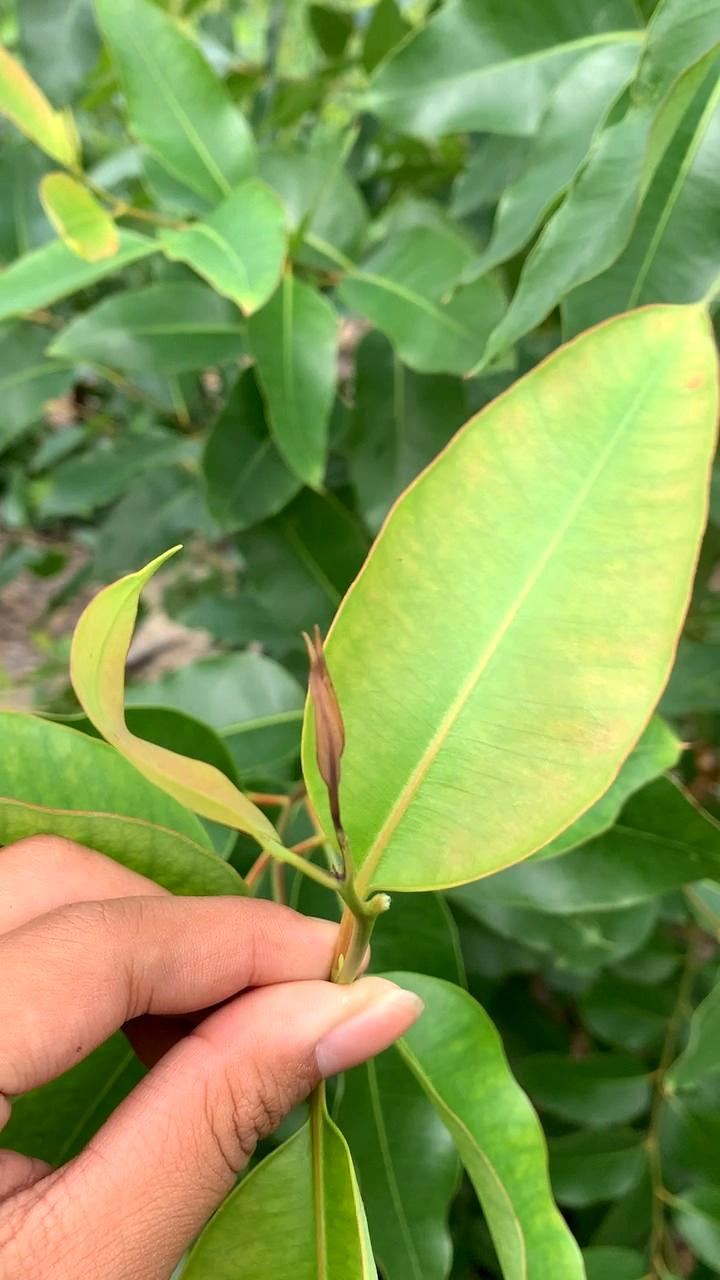Helopeltis-Withered Sprout: (295, 603, 366, 895)
